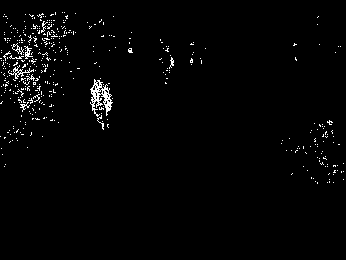person: (87, 76, 115, 134)
